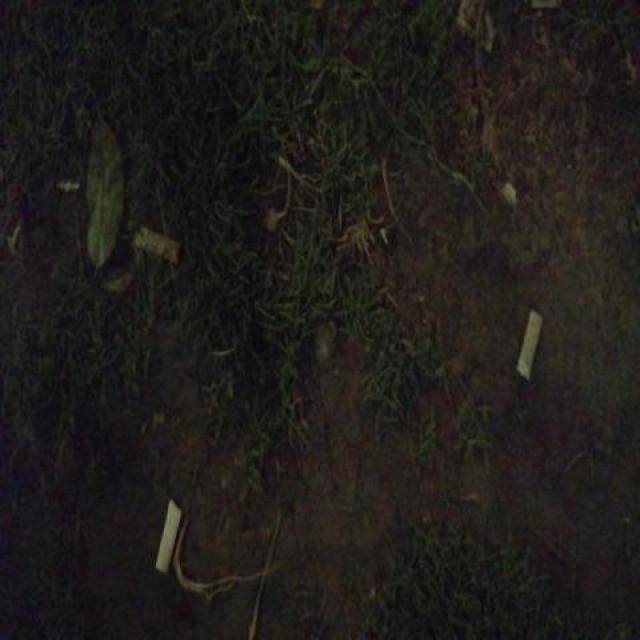non-organic waste: (151, 492, 188, 577), (129, 215, 186, 269), (512, 304, 547, 384)
